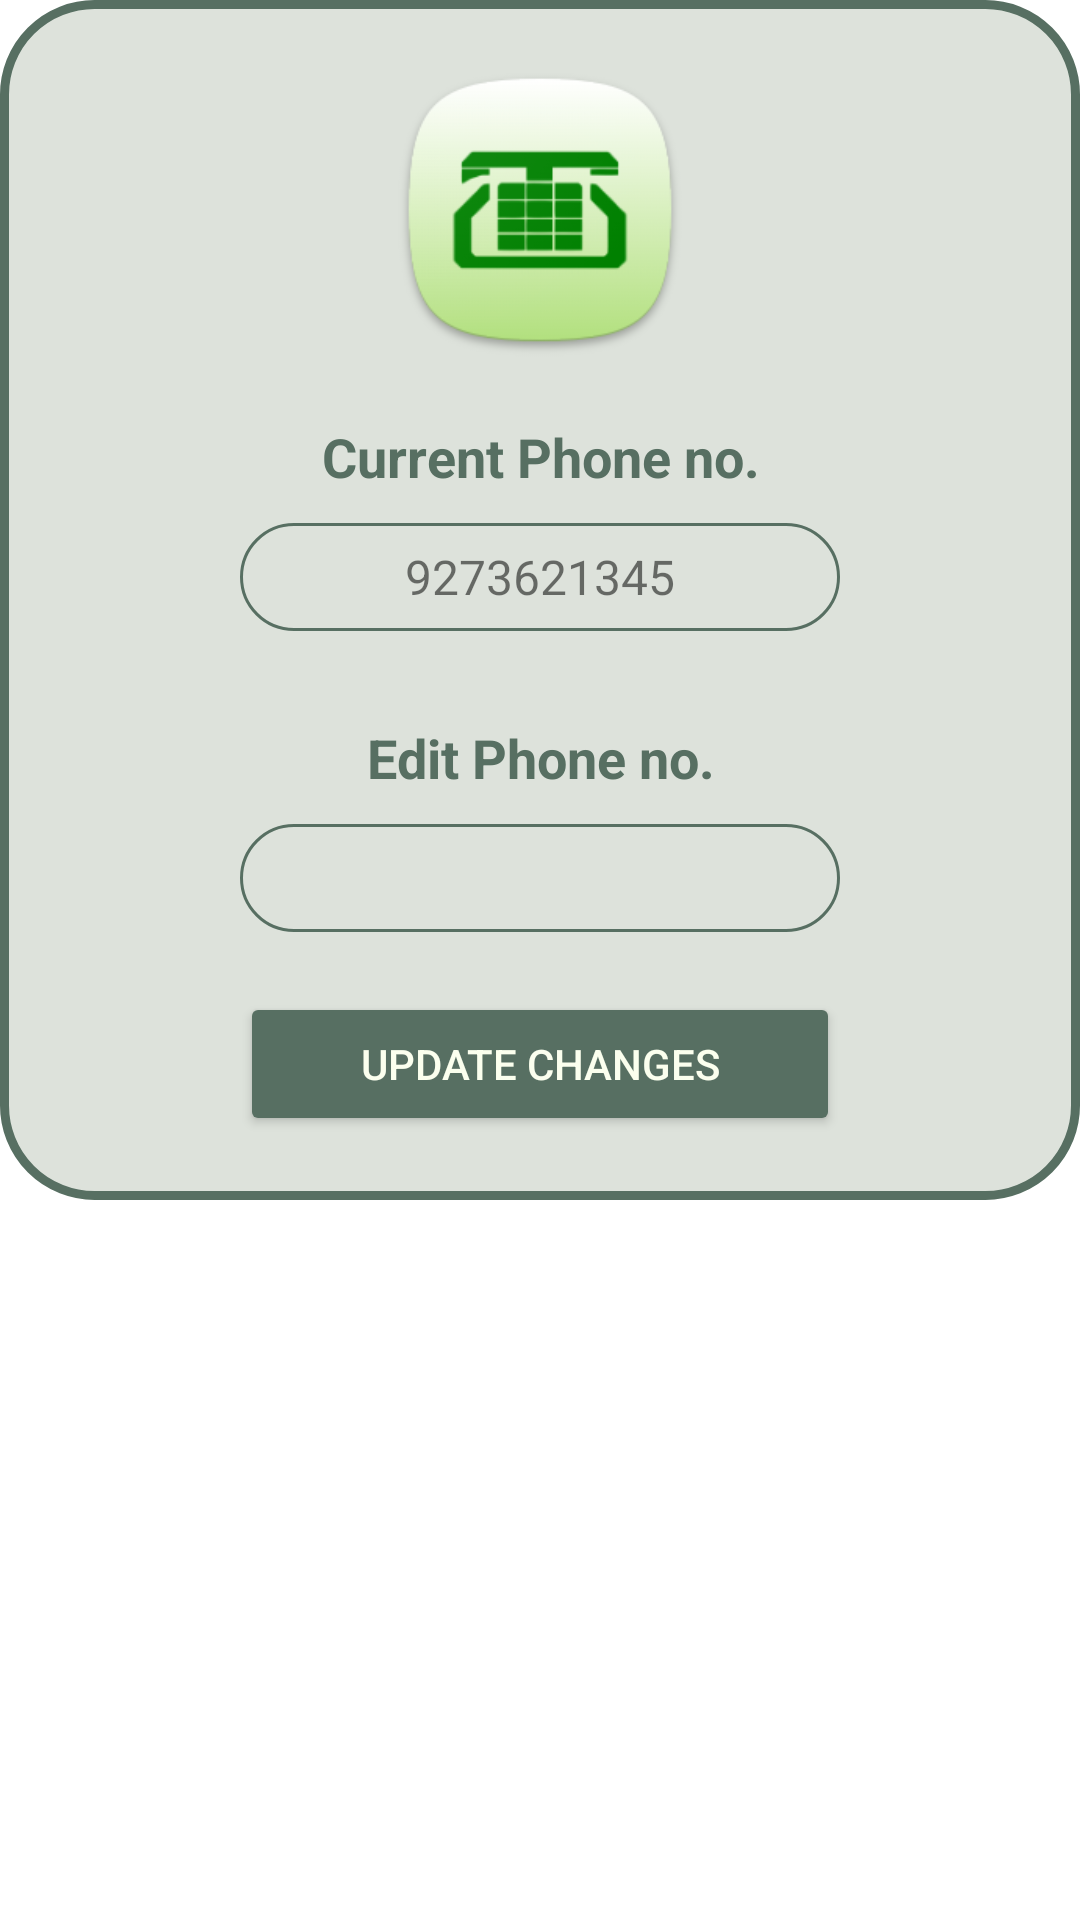

Screen size 1080*1920. Icon name, then its box in pixels as (x1, y1, x2, y2):
mainicon: (407, 79, 673, 347)
